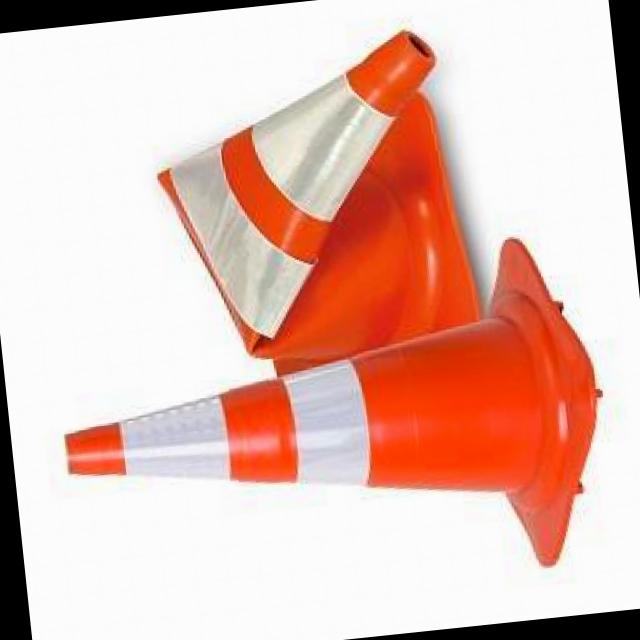cone: (36, 238, 598, 614)
